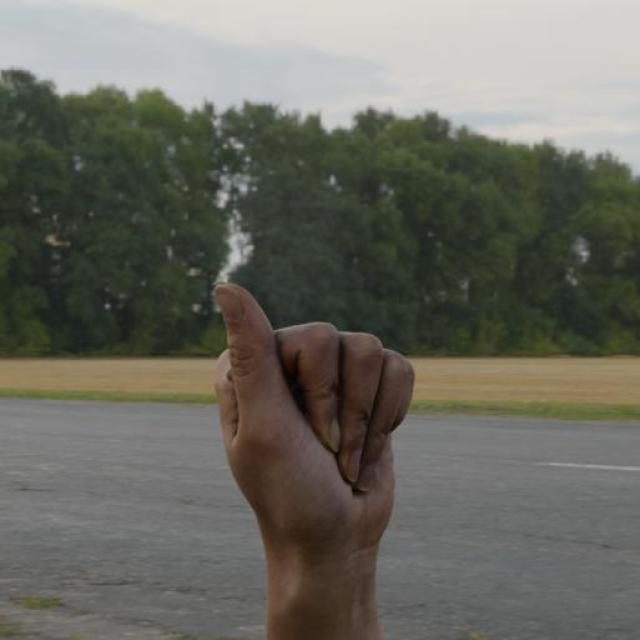A: (211, 278, 420, 542)
